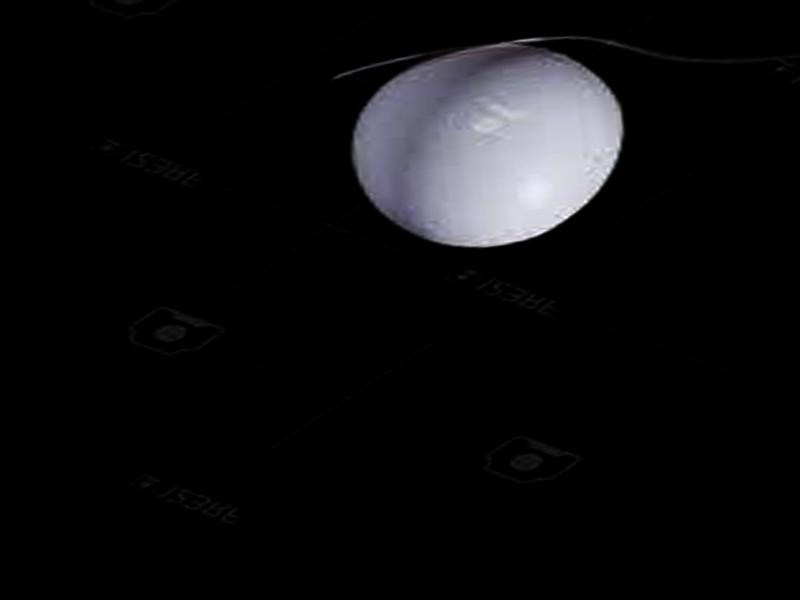Eggs: (339, 30, 636, 259)
